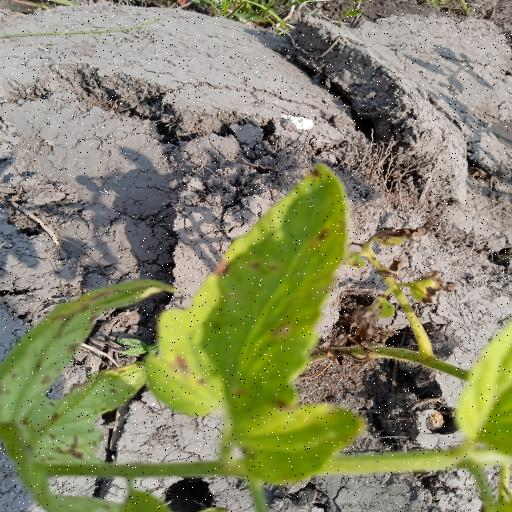Tomato_Brown_Spots: (143, 162, 357, 424)
